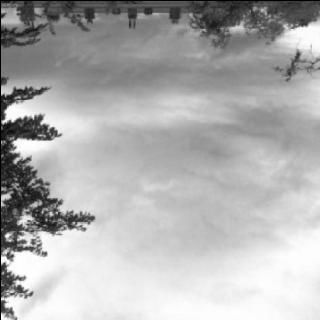Nimbostratus: (33, 34, 320, 320)
